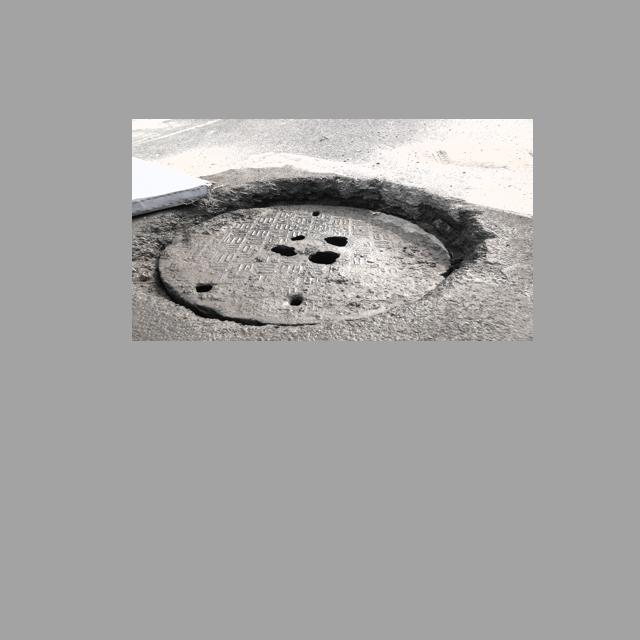broke: (157, 204, 451, 324)
